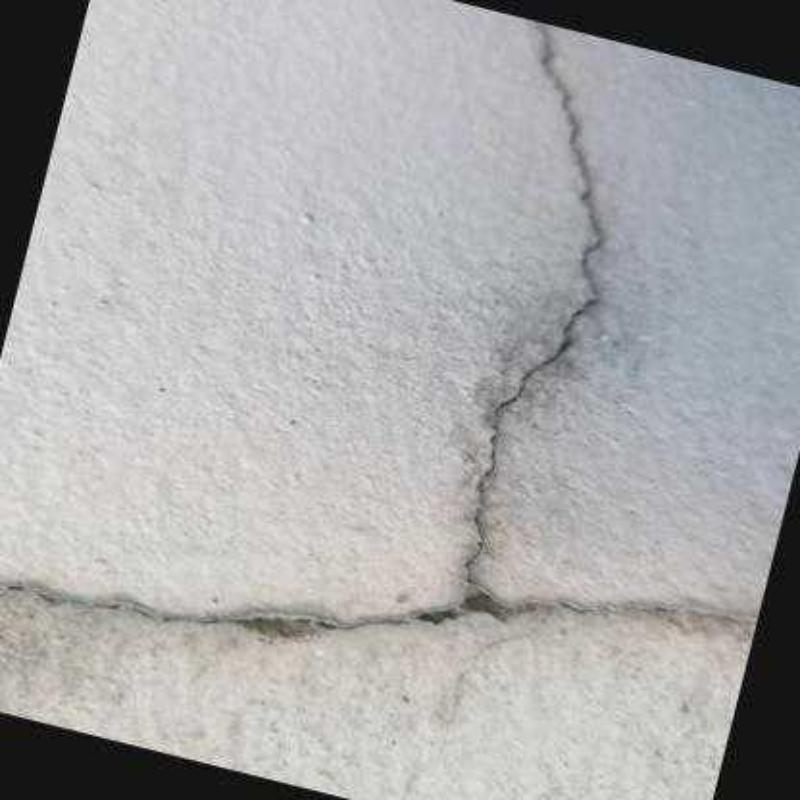pothole: (0, 20, 758, 640)
